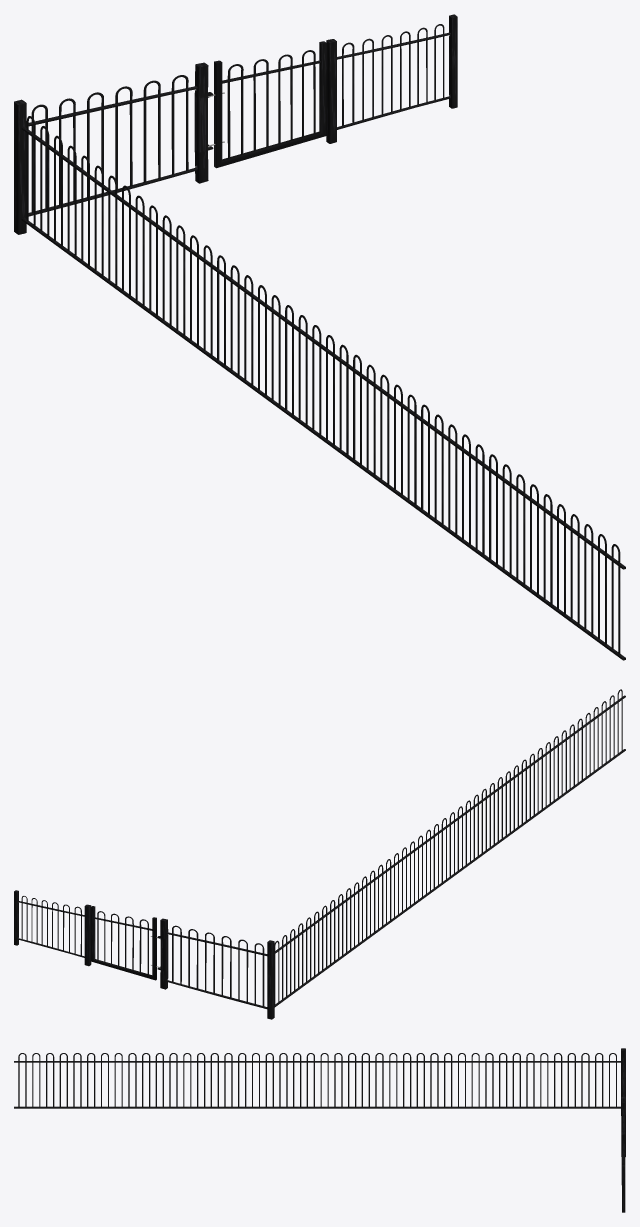
The model's file is fence_perspective.glb.
The picture shows the model from 3 angles, top to bottom: view 1: azimuth 30°, elevation 25°; view 2: azimuth 150°, elevation 25°; view 3: azimuth 270°, elevation 25°; orthographic projection. The views are drawn at different scales.
Visible parts, largest first — view 1: SingleFence.001, Fence, Door, Fence.001, SinglePillar; view 2: SingleFence.001, Fence, Fence.001, Door, SinglePillar; view 3: SingleFence.001, Fence.001, Fence.
Boxes of the visible parts, left/top/right/bottom form: SingleFence.001: left=21, top=116, right=625, bottom=660; Fence: left=28, top=62, right=213, bottom=216; Door: left=208, top=41, right=326, bottom=168; Fence.001: left=326, top=14, right=457, bottom=143; SinglePillar: left=14, top=99, right=26, bottom=234; SingleFence.001: left=274, top=689, right=625, bottom=1007; Fence: left=157, top=918, right=267, bottom=1008; Fence.001: left=14, top=890, right=91, bottom=966; Door: left=91, top=906, right=160, bottom=980; SinglePillar: left=267, top=940, right=274, bottom=1019; SingleFence.001: left=14, top=1053, right=620, bottom=1108; Fence.001: left=621, top=1132, right=625, bottom=1212; Fence: left=621, top=1057, right=625, bottom=1156.
Bounding box in the file's own units: 7.57 × 2.13 × 18.05.
Materials: 3 (2 with a texture image).
